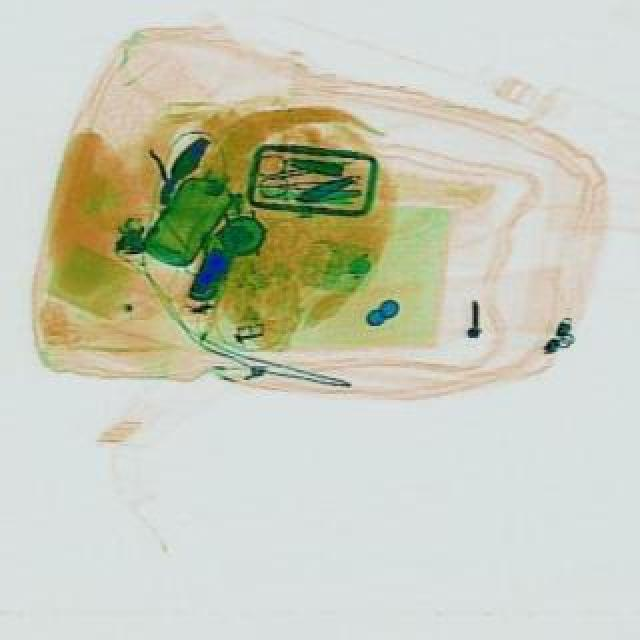pliers: (256, 150, 344, 202)
